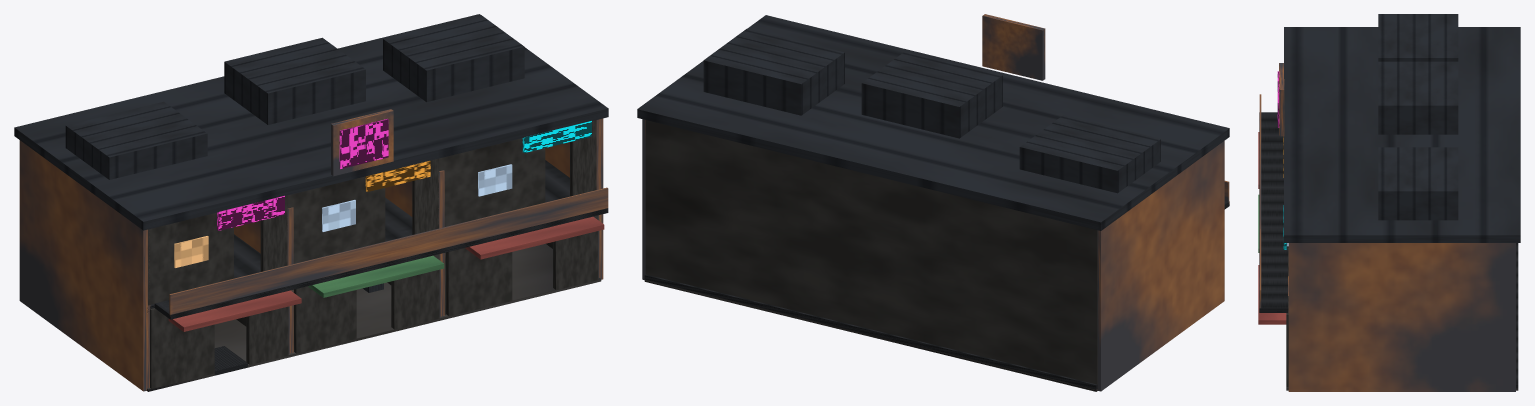
The model's file is Hesperus_AlienBar_CommercialArcade.glb.
3 renders of one model, left to right at view 1: azimuth 30°, elevation 25°; view 2: azimuth 150°, elevation 25°; view 3: azimuth 270°, elevation 25°, orthographic. The views are drawn at different scales.
Parts seen in each view (by area): view 1: ABA_UpperRoof, ABA_FramePier_54.0, ABA_UpperBalconyRail, ABA_RoofMass_68.5, ABA_RoofMass_79.0, ABA_RoofMass_58.0, ABA_UpperRoom_3_Front, ABA_BlockFloor, ABA_UpperRoom_2_Front, ABA_UpperRoom_0_Front, ABA_Bar_FrontLeft, ABA_Clinic_FrontLeft (+24 smaller); view 2: ABA_RearWall, ABA_UpperRoof, ABA_FramePier_54.0, ABA_RoofMass_79.0, ABA_RoofMass_68.5, ABA_RoofMass_58.0, ABA_RoofSignFrame, ABA_RearServiceWalk, ABA_BlockFloor, ABA_FramePier_84.0; view 3: ABA_UpperRoof, ABA_FramePier_84.0, ABA_RoofMass_68.5, ABA_RoofMass_79.0, ABA_UpperBalcony, ABA_RoofMass_58.0, ABA_UpperBalconyRail, ABA_ClinicAwning, ABA_RearServiceWalk, ABA_RoofSignFrame, ABA_Clinic_FrontRight.
Boxes of the visible parts, left/top/right/bottom form: ABA_UpperRoof: left=14, top=14, right=608, bottom=230; ABA_FramePier_54.0: left=19, top=140, right=150, bottom=391; ABA_UpperBalconyRail: left=169, top=187, right=608, bottom=316; ABA_RoofMass_68.5: left=224, top=37, right=365, bottom=124; ABA_RoofMass_79.0: left=383, top=15, right=524, bottom=102; ABA_RoofMass_58.0: left=65, top=101, right=207, bottom=179; ABA_UpperRoom_3_Front: left=439, top=138, right=545, bottom=226; ABA_BlockFloor: left=147, top=244, right=601, bottom=391; ABA_UpperRoom_2_Front: left=287, top=176, right=385, bottom=263; ABA_UpperRoom_0_Front: left=148, top=212, right=233, bottom=305; ABA_Bar_FrontLeft: left=150, top=308, right=214, bottom=388; ABA_Clinic_FrontLeft: left=446, top=248, right=512, bottom=316; ABA_RearWall: left=645, top=120, right=1097, bottom=384; ABA_UpperRoof: left=637, top=15, right=1229, bottom=230; ABA_FramePier_54.0: left=1097, top=141, right=1224, bottom=391; ABA_RoofMass_79.0: left=703, top=28, right=844, bottom=115; ABA_RoofMass_68.5: left=861, top=51, right=1002, bottom=138; ABA_RoofMass_58.0: left=1019, top=115, right=1160, bottom=193; ABA_RoofSignFrame: left=982, top=14, right=1045, bottom=80; ABA_RearServiceWalk: left=644, top=274, right=1097, bottom=389; ABA_BlockFloor: left=644, top=279, right=1097, bottom=391; ABA_FramePier_84.0: left=642, top=119, right=645, bottom=279; ABA_UpperRoof: left=1284, top=27, right=1520, bottom=242; ABA_FramePier_84.0: left=1288, top=243, right=1515, bottom=391; ABA_RoofMass_68.5: left=1378, top=61, right=1458, bottom=134; ABA_RoofMass_79.0: left=1378, top=147, right=1458, bottom=220; ABA_UpperBalcony: left=1259, top=112, right=1287, bottom=312; ABA_RoofMass_58.0: left=1378, top=14, right=1458, bottom=61; ABA_UpperBalconyRail: left=1259, top=94, right=1261, bottom=308; ABA_ClinicAwning: left=1258, top=265, right=1286, bottom=324; ABA_RearServiceWalk: left=1516, top=243, right=1518, bottom=388; ABA_RoofSignFrame: left=1279, top=63, right=1284, bottom=136; ABA_Clinic_FrontRight: left=1286, top=296, right=1288, bottom=386.
Size of the model in its own units: 30.8 by 14.22 by 16.4.
14 materials, 14 textured.
